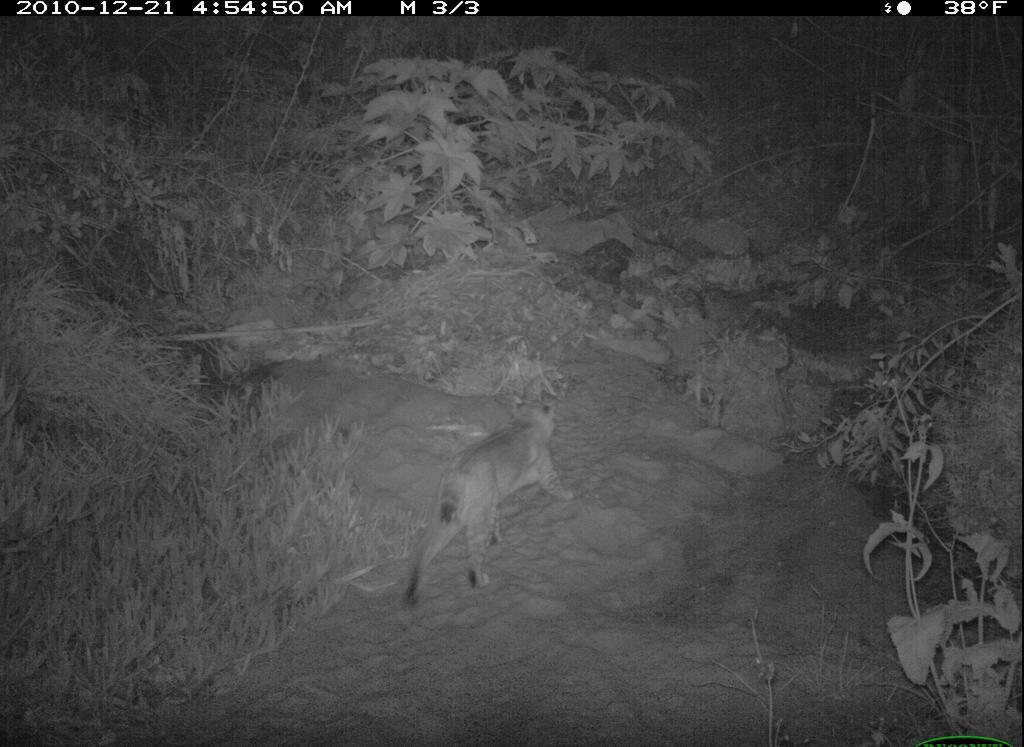bobcat: (382, 384, 588, 616)
